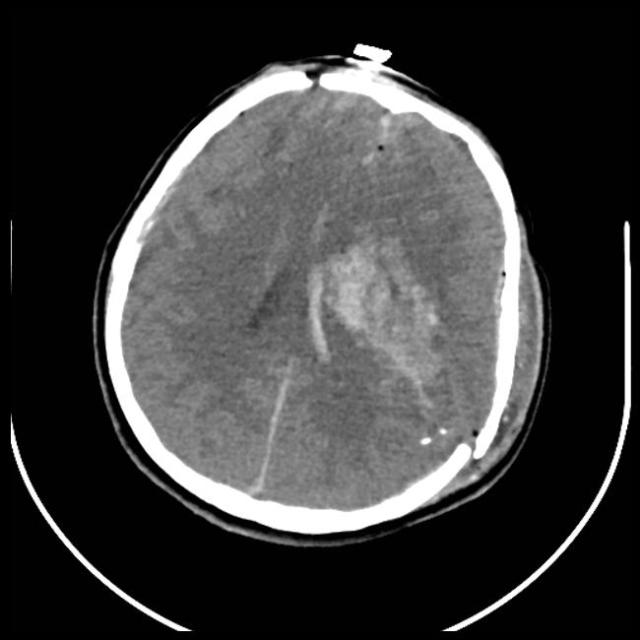lesion: (97, 51, 548, 537)
